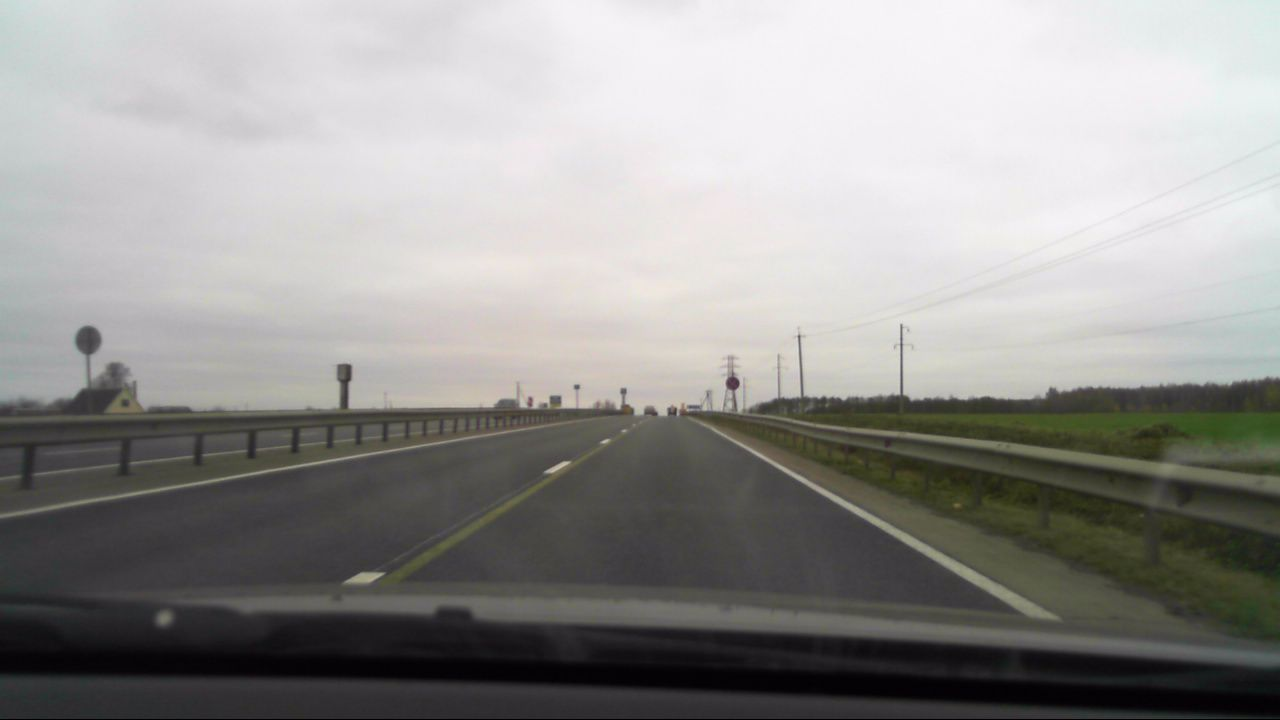No Parking: (723, 374, 739, 391)
